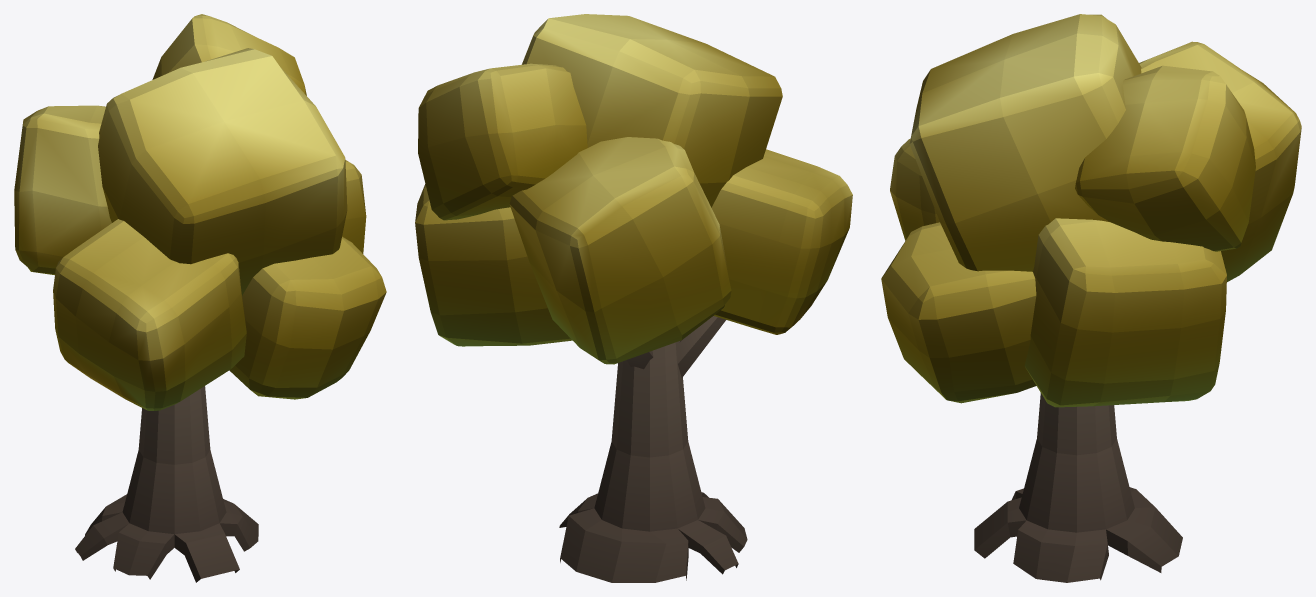
The model's file is Tree_Cube_Autumn.fbx.
The picture shows the model from 3 angles, left to right: view 1: azimuth 30°, elevation 25°; view 2: azimuth 150°, elevation 25°; view 3: azimuth 270°, elevation 25°; orthographic projection. The views are drawn at different scales.
Parts seen in each view (by area): view 1: Tree_Cube_Autumn; view 2: Tree_Cube_Autumn; view 3: Tree_Cube_Autumn.
Boxes of the visible parts, bbox=[...] form: Tree_Cube_Autumn: bbox=[14, 14, 386, 582]; Tree_Cube_Autumn: bbox=[415, 14, 852, 582]; Tree_Cube_Autumn: bbox=[881, 14, 1301, 582].
Size of the model in its own units: 270 by 367 by 267.
